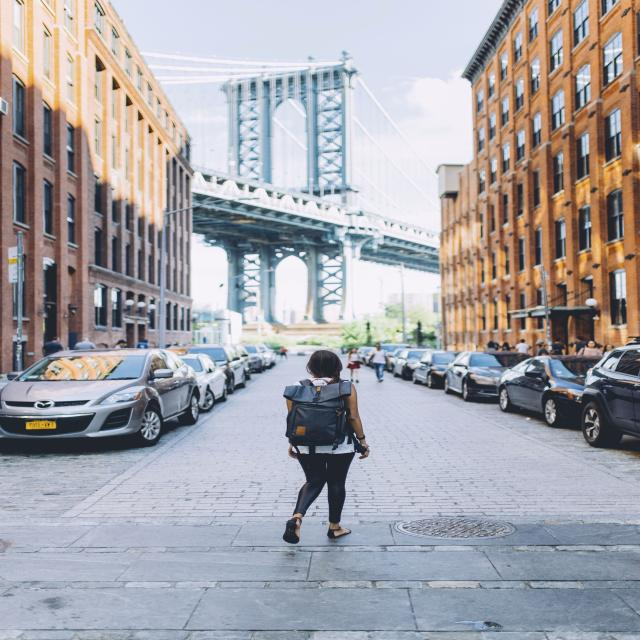adult: (280, 349, 368, 550)
